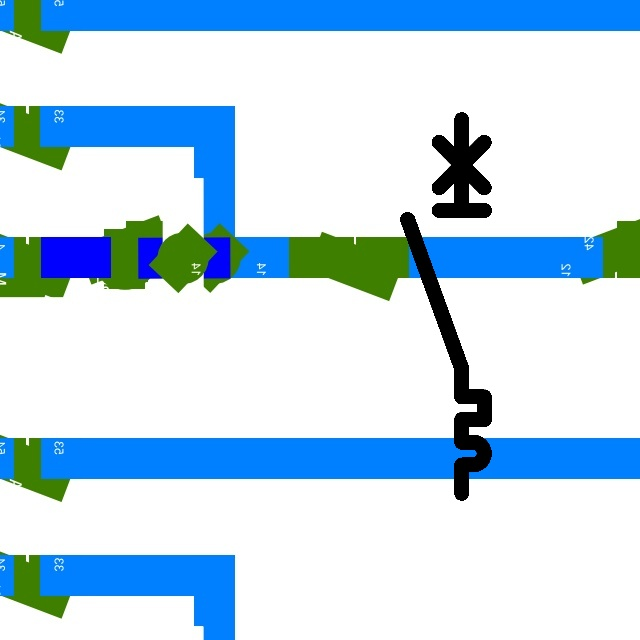interruptor_termomagnetico: (398, 110, 494, 503)
